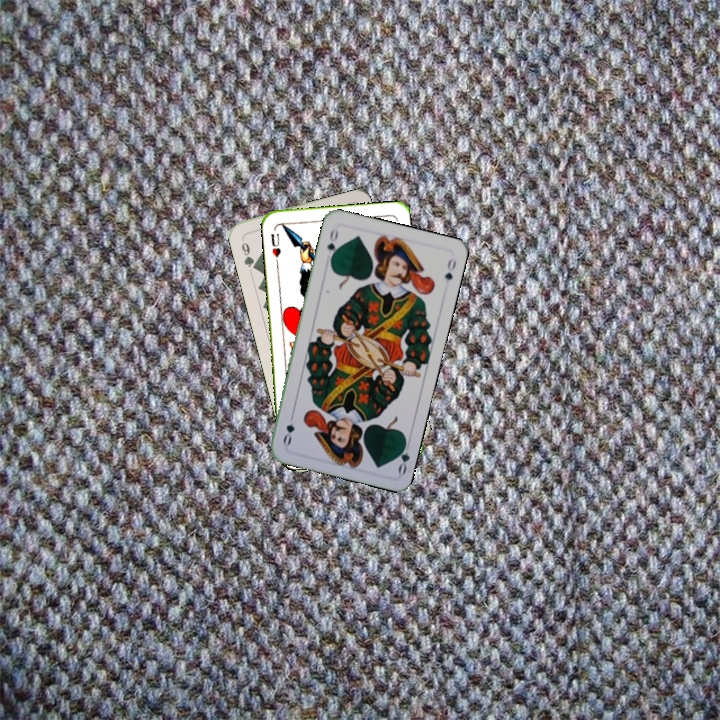G9: (237, 234, 260, 272)
GO: (392, 435, 413, 477), (323, 225, 341, 264)
HU: (267, 230, 283, 265)
